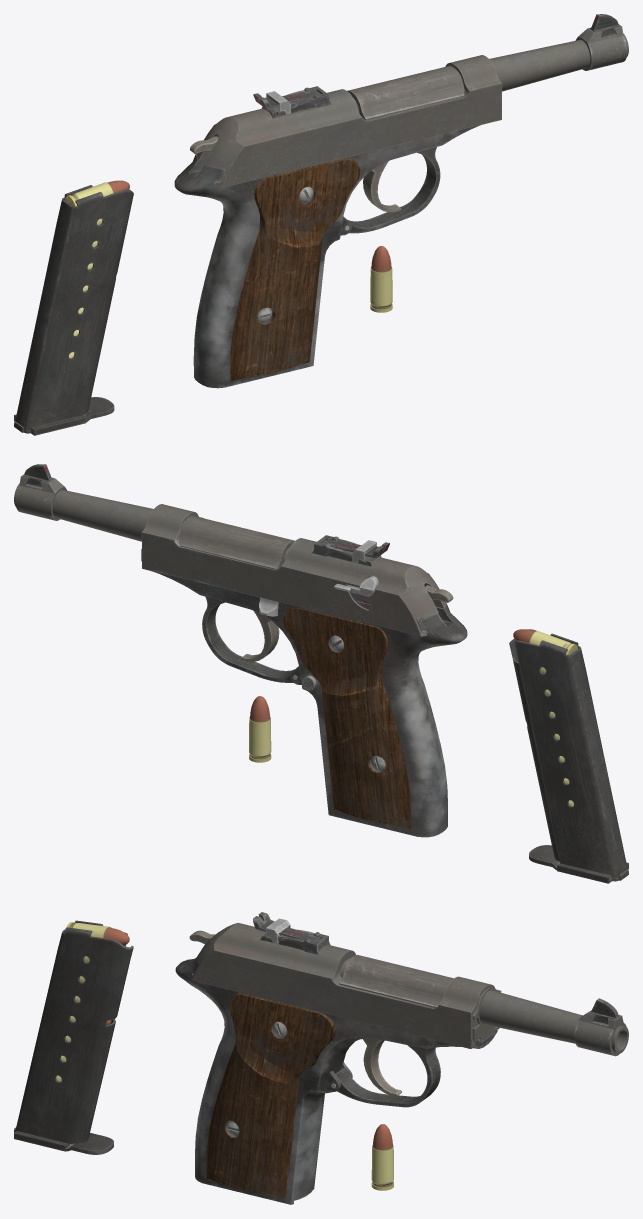
Rendered from pistol_ph.glb.
The picture shows the model from 3 angles, top to bottom: view 1: azimuth 30°, elevation 25°; view 2: azimuth 150°, elevation 25°; view 3: azimuth 330°, elevation 25°; orthographic projection.
Parts seen in each view (by area): view 1: service_pistol_pistol_a, service_pistol_magazine_loaded, service_pistol_slide_a, service_pistol_bullet, service_pistol_trigger_a; view 2: service_pistol_pistol_a, service_pistol_magazine_loaded, service_pistol_slide_a, service_pistol_bullet, service_pistol_trigger_a; view 3: service_pistol_pistol_a, service_pistol_magazine_loaded, service_pistol_slide_a, service_pistol_bullet, service_pistol_trigger_a.
Part boxes in pixels (x1,y1,x2,y2): service_pistol_pistol_a: [174, 14, 628, 388]; service_pistol_magazine_loaded: [14, 180, 133, 435]; service_pistol_slide_a: [197, 55, 502, 187]; service_pistol_bullet: [370, 246, 392, 312]; service_pistol_trigger_a: [363, 161, 401, 212]; service_pistol_pistol_a: [14, 464, 467, 837]; service_pistol_magazine_loaded: [509, 629, 628, 883]; service_pistol_slide_a: [141, 504, 450, 636]; service_pistol_bullet: [249, 696, 271, 762]; service_pistol_trigger_a: [240, 611, 279, 661]; service_pistol_pistol_a: [175, 955, 628, 1204]; service_pistol_magazine_loaded: [14, 920, 133, 1154]; service_pistol_slide_a: [190, 912, 501, 1048]; service_pistol_bullet: [371, 1124, 393, 1190]; service_pistol_trigger_a: [363, 1038, 401, 1096].
Bounding box in the file's own units: 0.3016 × 0.1307 × 0.0318.
1 material, 1 textured.
